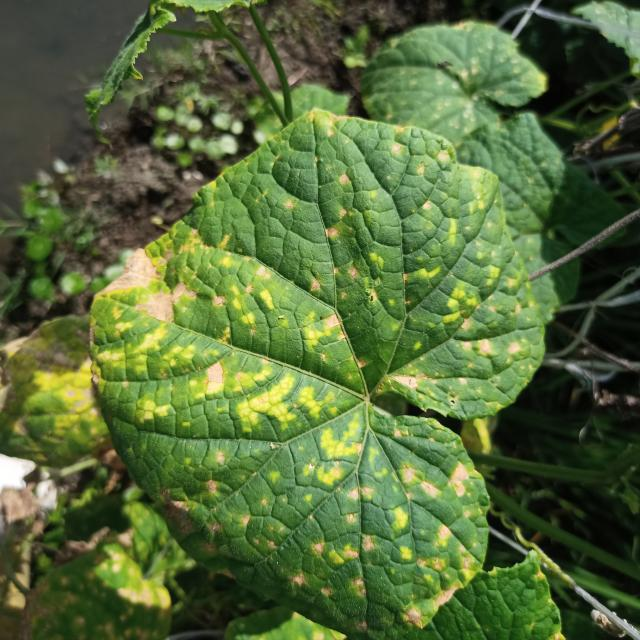disease_cucumber: (87, 121, 539, 639)
